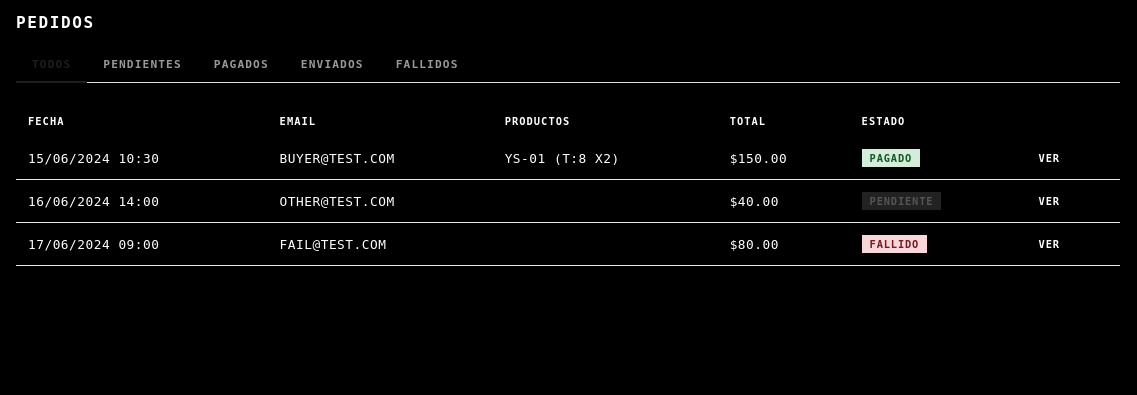
Test: AdminPedidos › para status="pending" muestra botón MARCAR COMO PAGADO
Click the button with test id "view-btn-o2".
click(1049, 201)  # box [1030, 190, 1069, 212]
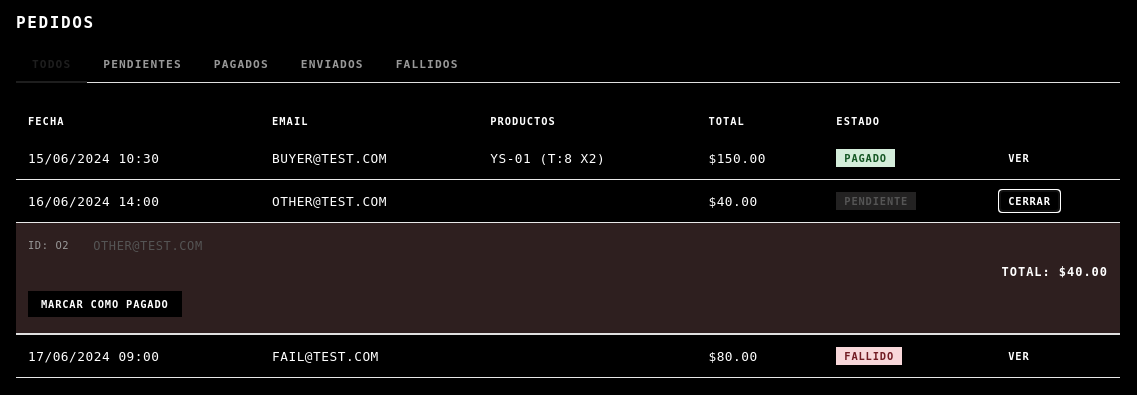
expect the button with test id "mark-paid-o2" is shown: met, box [28, 291, 182, 317]
